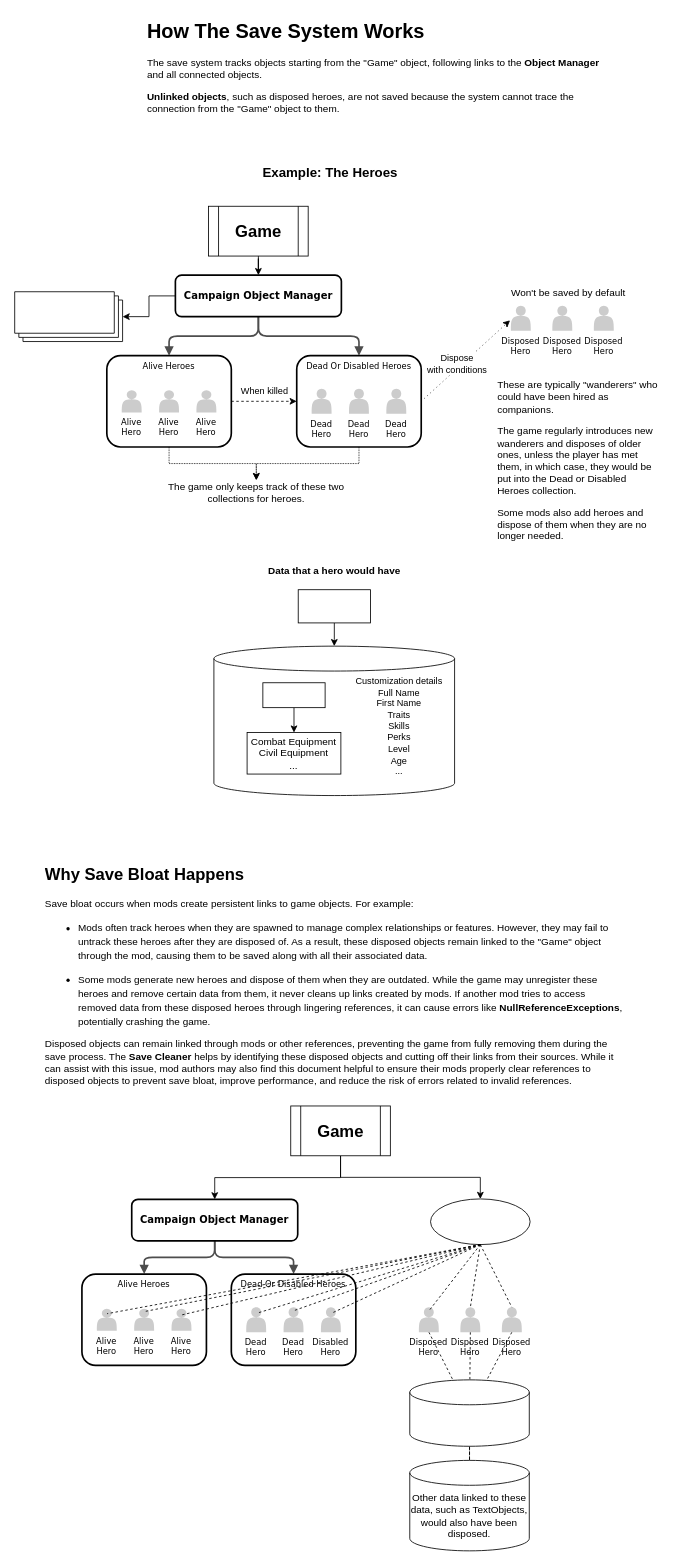
Some shapes in this 675 by 1565 pixel diagram are drawn without their labels. The shapes that lost their labels are listed below. From the top down, each one's centre as x and y in pixels, then its label:
At (x=68, y=316): "Other Collecitons".
At (x=333, y=606): "Hero".
At (x=293, y=695): "Character Object".
At (x=480, y=1221): "Mod Example".
At (x=469, y=1412): "Heroes' Data that are supposed to be disposed together".
